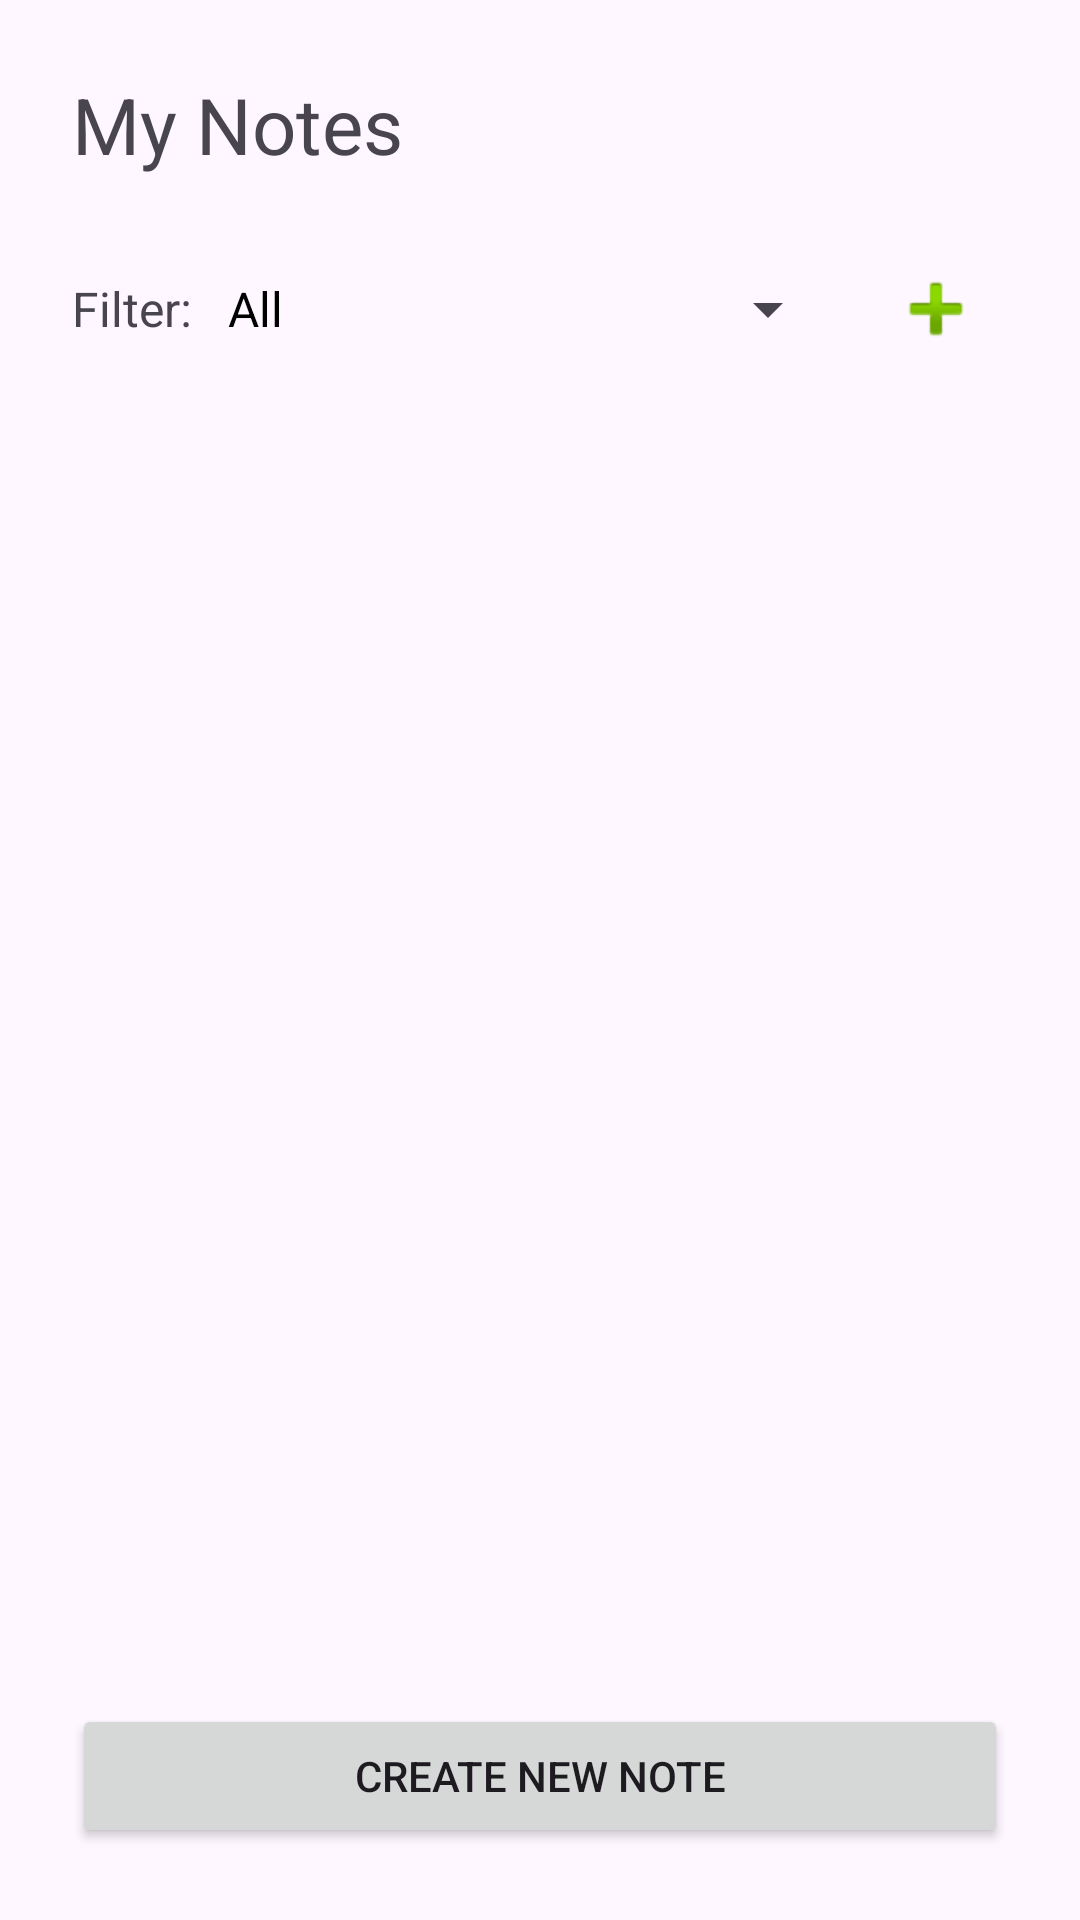

Named icons in this screenshot (1080px×1920px) and their bounding boxes, (x1, y1, x2, y2):
Create new category: (909, 282, 963, 336)
